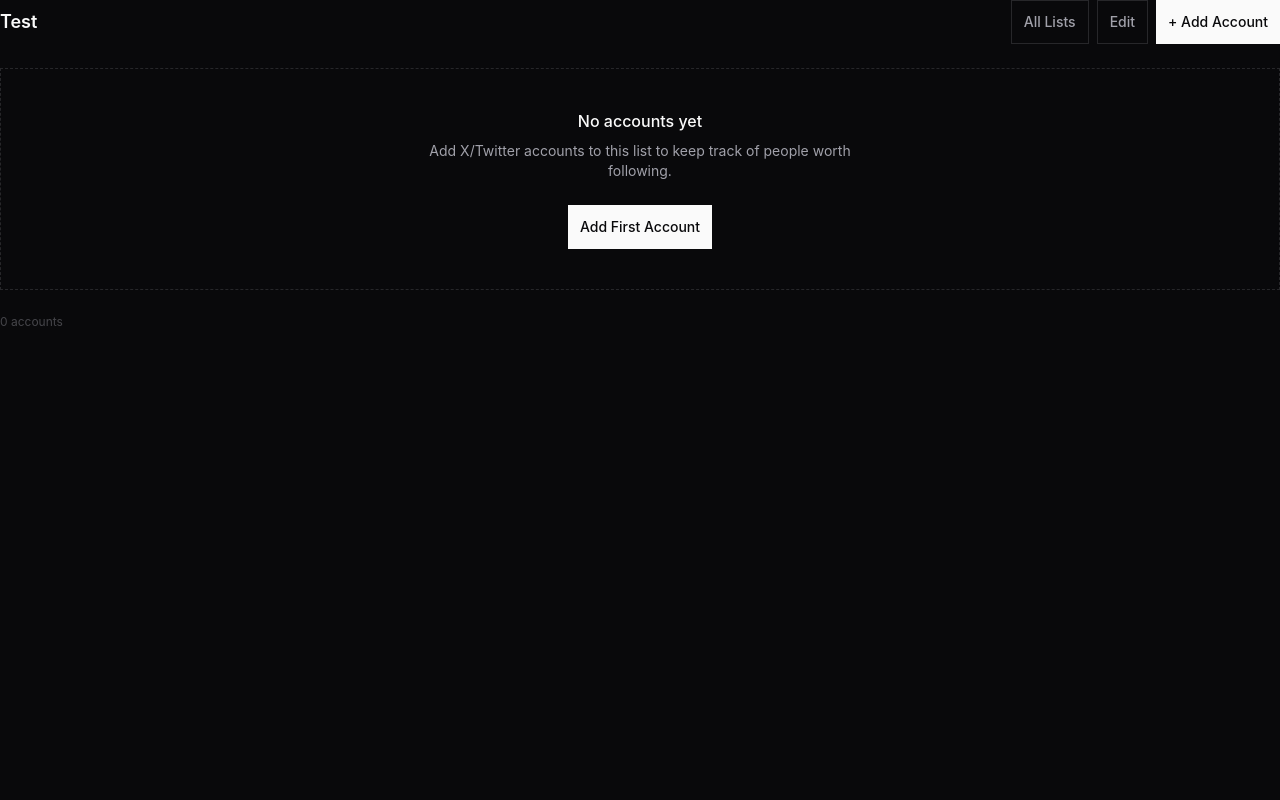
Scenario: ListsPage › adds an account to a list
Click the button "+ Add Account" at [1218, 22], box [1156, 0, 1279, 44]
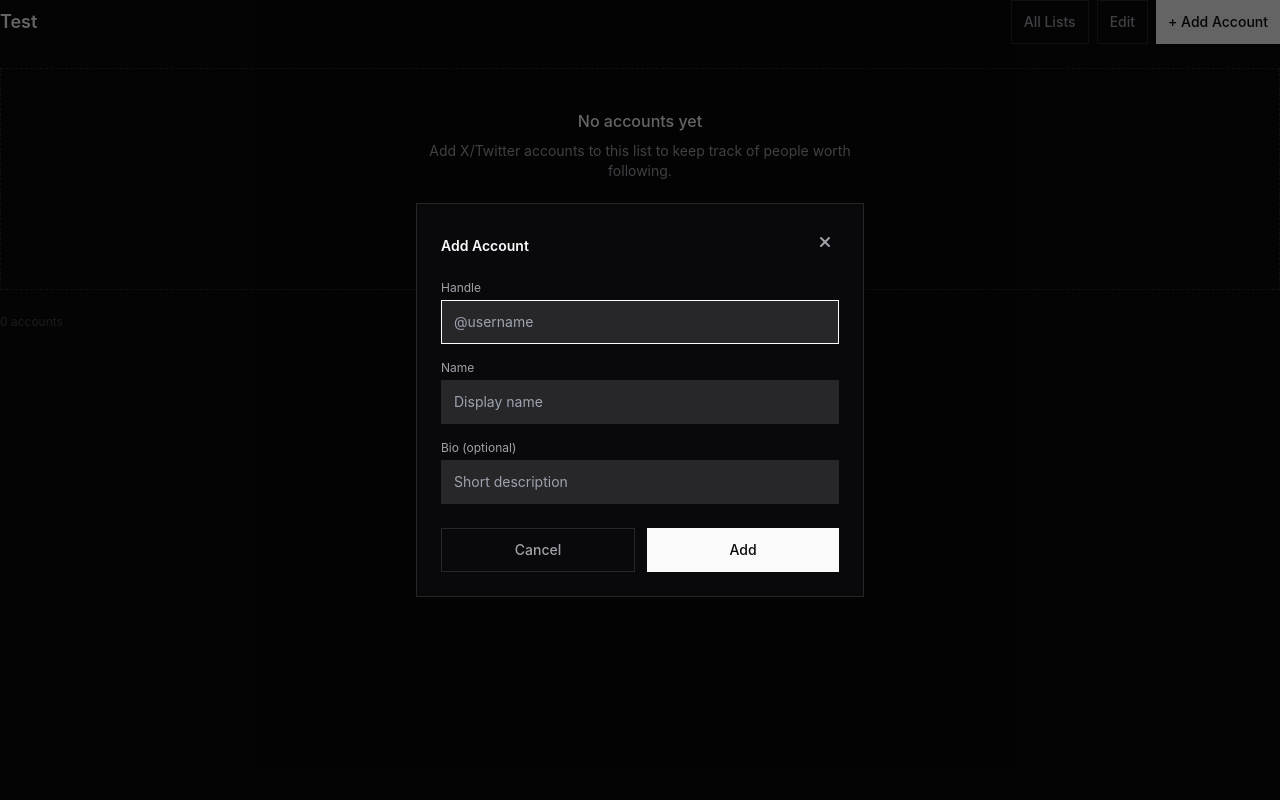
Type "@testuser" into the field with test id "account-handle-input" at [640, 322], box [441, 300, 839, 344]
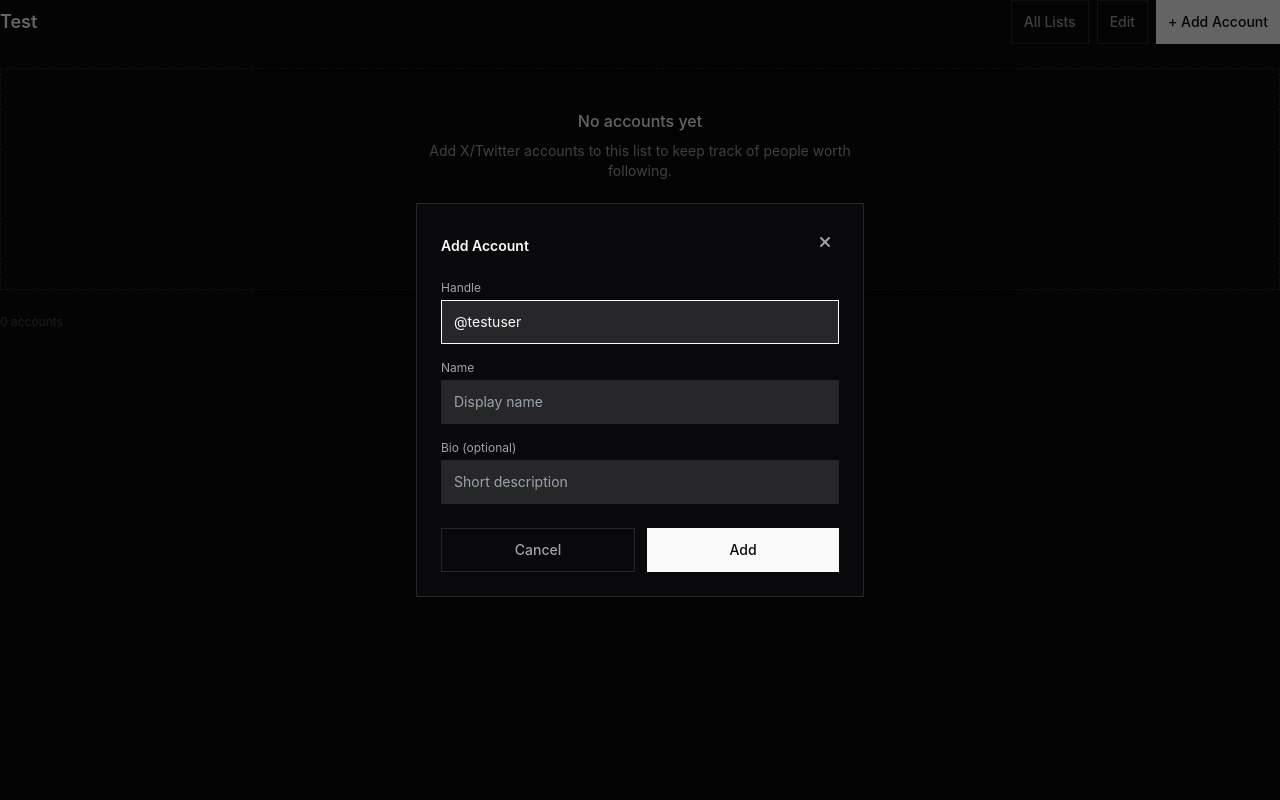
Type "Test User" into the field with test id "account-name-input" at [640, 402], box [441, 380, 839, 424]
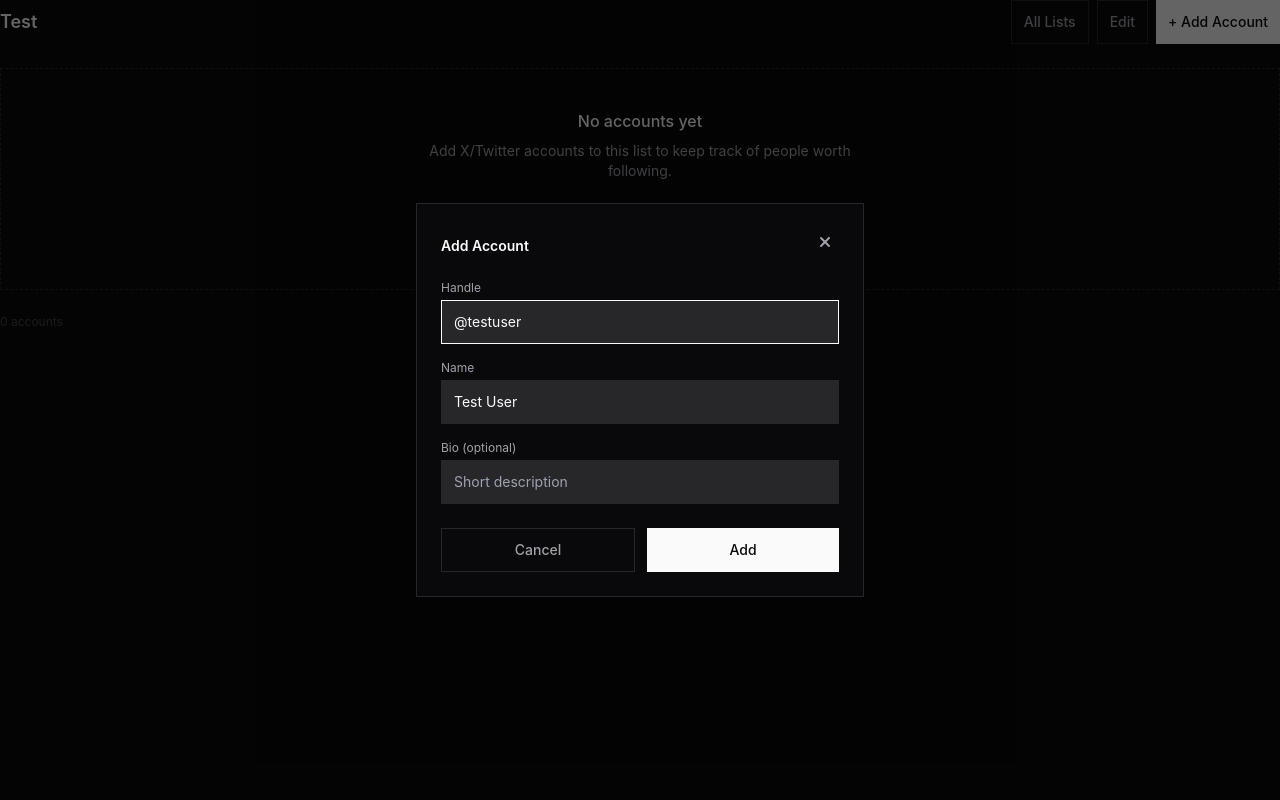
Click the button "Add" at [743, 550], box [647, 528, 839, 572]
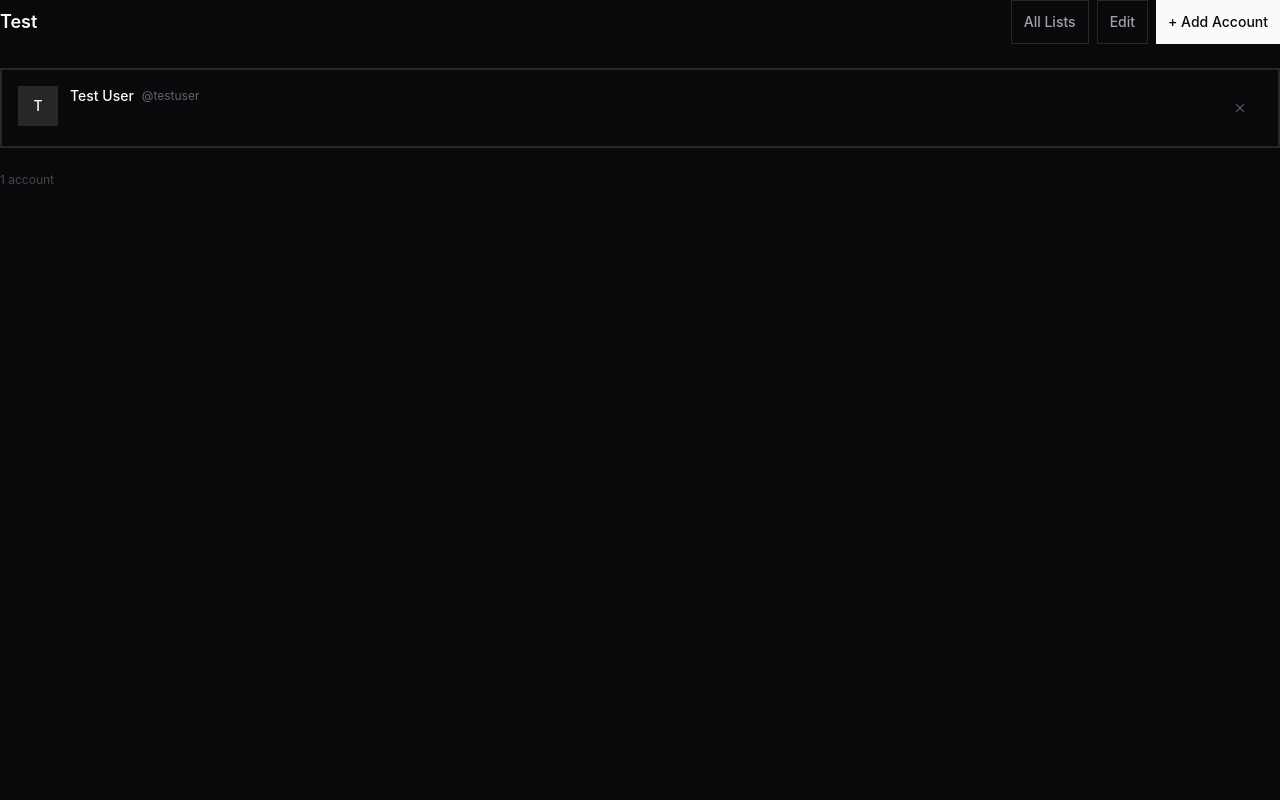
Result: the text "Test User" is shown at [70, 86, 134, 106]
Result: the text "@testuser" is shown at [142, 88, 200, 104]
